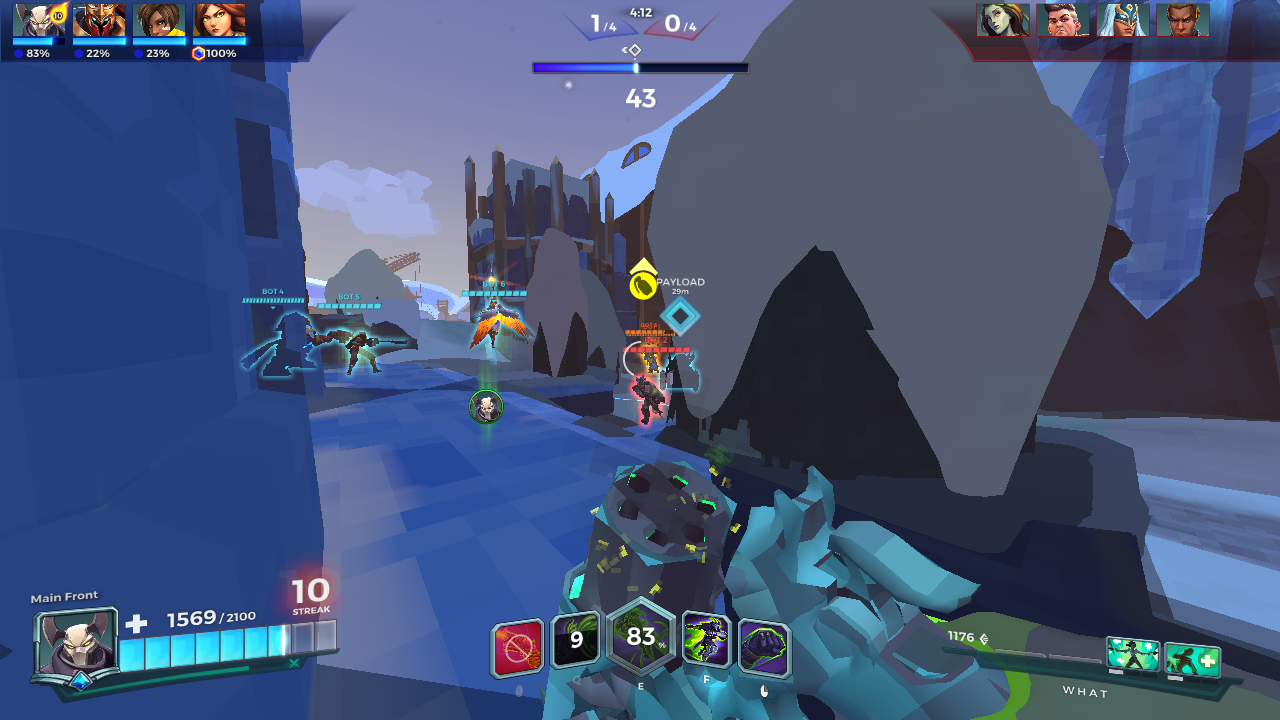model: (635, 373, 666, 428)
